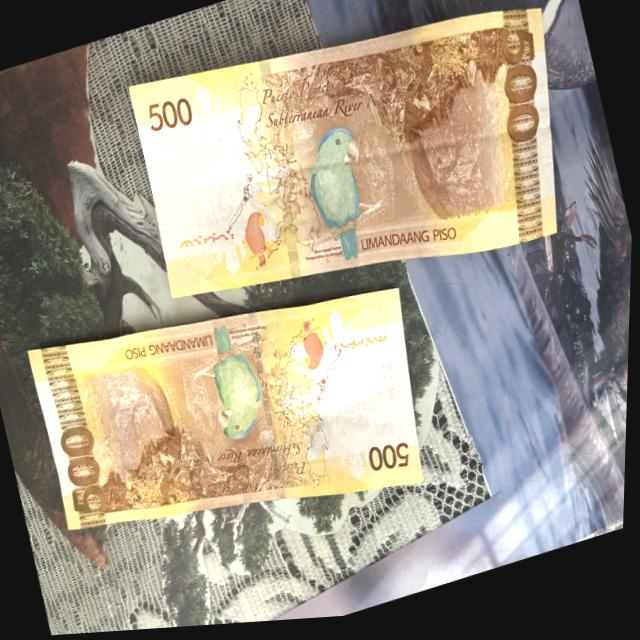500_big_parrot: (298, 121, 388, 268), (196, 318, 274, 448)
500_parrot_watermark: (237, 209, 280, 274), (294, 317, 332, 383)
value_watermark: (374, 358, 404, 406), (158, 177, 188, 223)
watermark: (145, 109, 248, 232), (318, 330, 409, 461)
